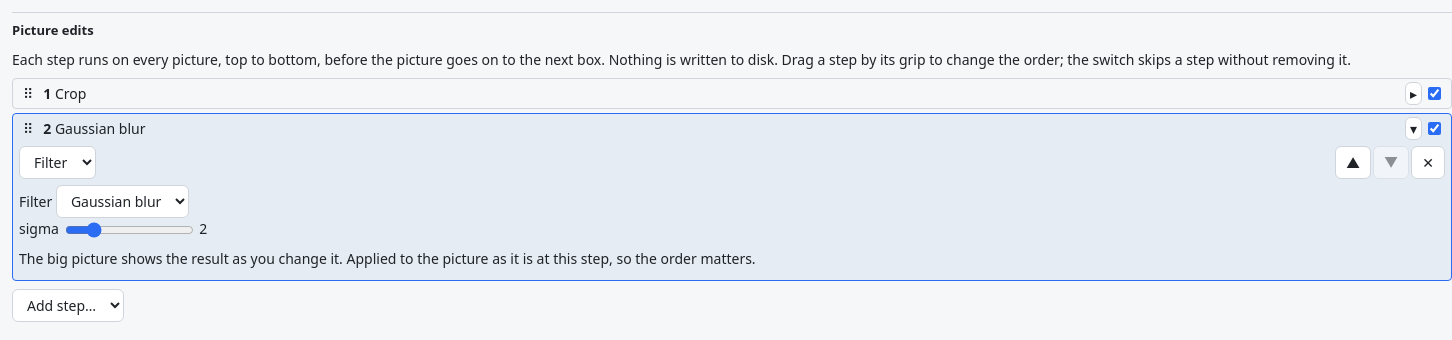
Test: lists the steps in order; only the last is open, the others are one line
expect the number of list items is 2: met, box [12,78,1451,108]; [12,112,1451,281]
expect the slider labelled "sigma" holds "2": met, box [64,222,194,238]
Click the button named "Open step 1".
click(1414, 93)  # box [1405,82,1422,104]
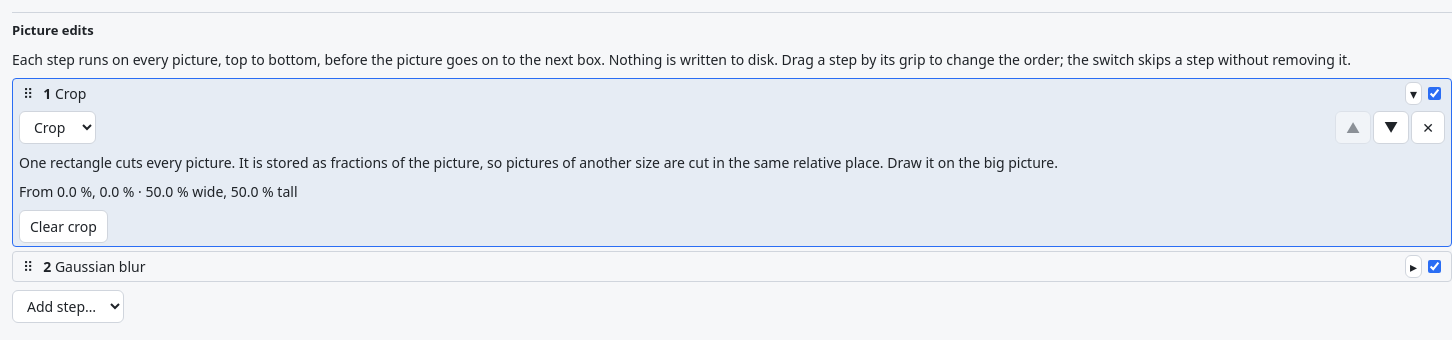
expect the button "Clear crop" is shown: met, box [19,210,108,242]
expect the label labelled "sigma" is gone: met
